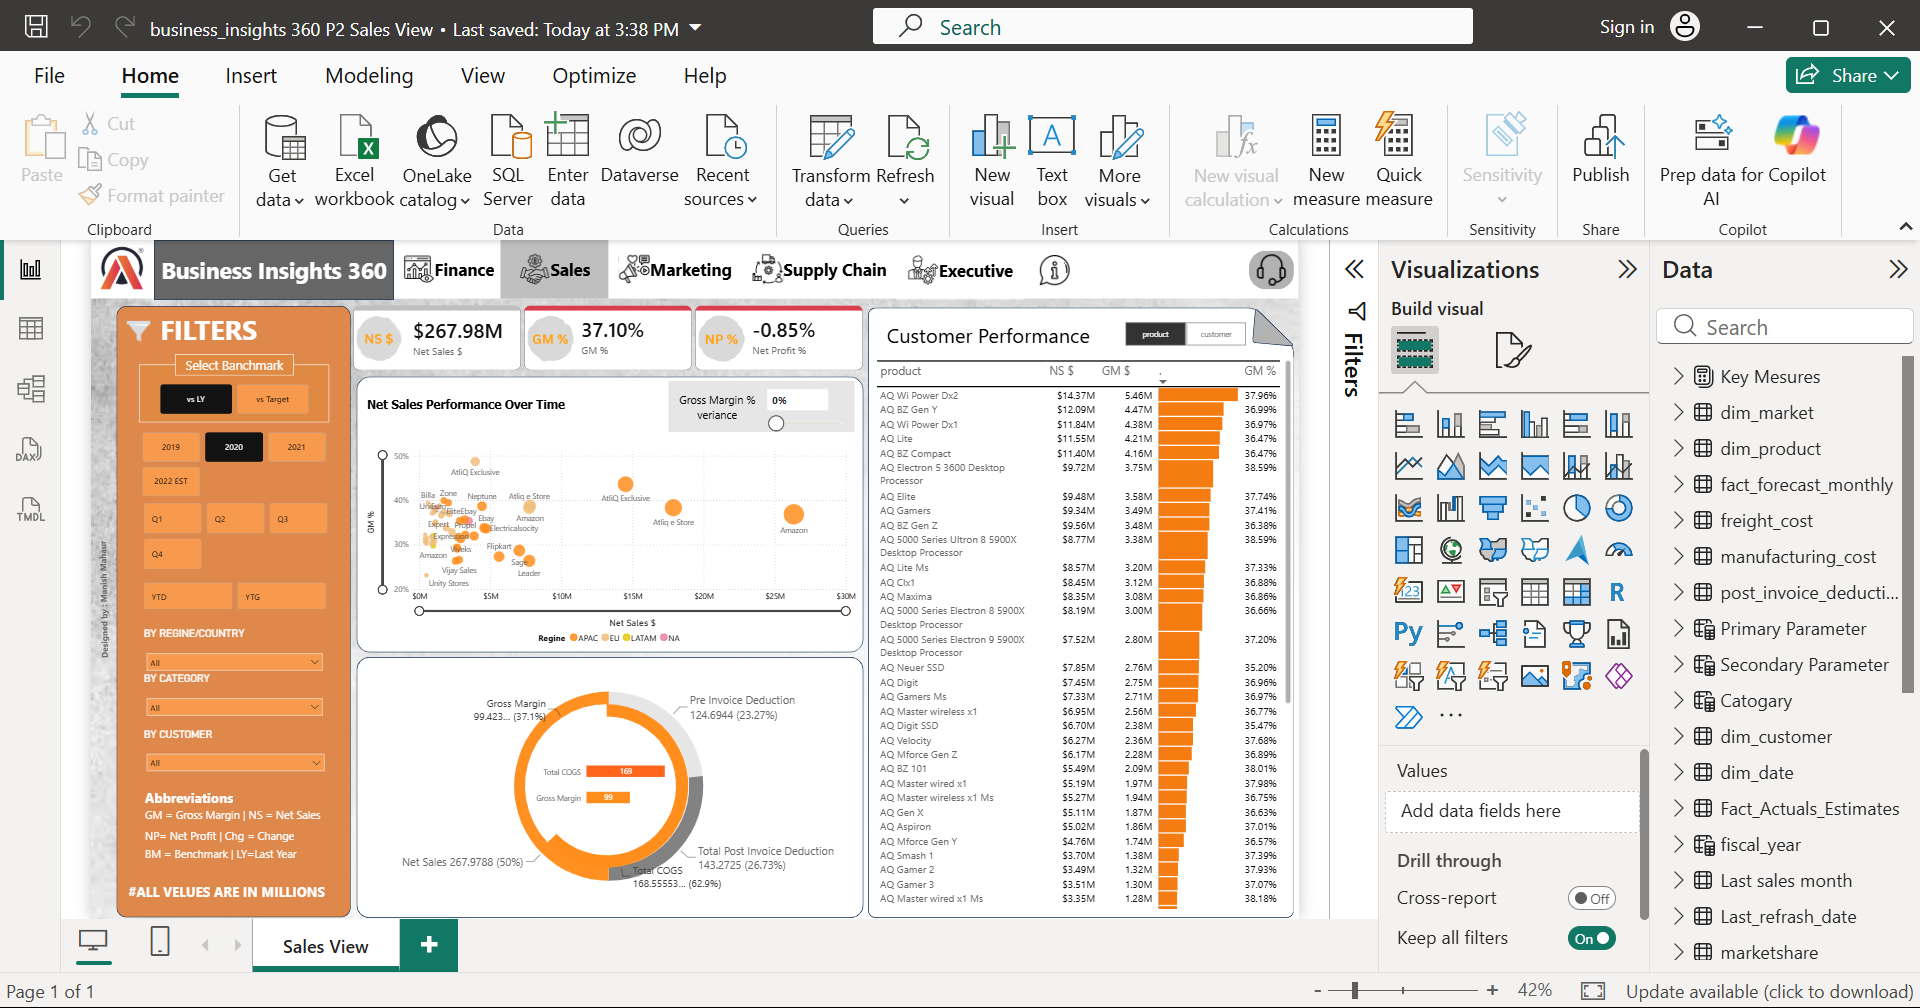

Layout of this report page (visuals, bound fields, positions):
{"tool":"powerbi","page":{"name":"Sales View ","canvas":[1920,1080],"ordinal":0},"visuals":[{"type":"shape","box":[0,0,1920.7,93.1],"z":0},{"type":"shape","box":[0.3,0,264,24],"z":1000},{"type":"shape","box":[10,10,237.5,33.8],"z":2000},{"type":"image","box":[0,9.5,100.2,69.2],"z":3000},{"type":"shape","box":[40,105,372.5,972.5],"z":4000},{"type":"actionButton","box":[0,426.3,39.8,289.5],"z":5000},{"type":"actionButton","box":[486.7,0,164.6,93.1],"z":6000},{"type":"actionButton","box":[651.4,0,171.8,93.1],"z":7000},{"type":"actionButton","box":[823.1,0,212.3,93.1],"z":8000},{"type":"actionButton","box":[1035.5,0,245.7,93.1],"z":9000},{"type":"actionButton","box":[1281.2,0,202.8,95.4],"z":10000},{"type":"actionButton","box":[1841.9,16.7,71.6,62],"z":11000},{"type":"image","box":[1507.9,23.9,50.1,47.7],"z":12000},{"type":"shape","box":[100.2,0,381.7,95.4],"z":13000},{"type":"cardVisual","fields":{"Data":["Key Mesures.Net Sales $","Key Mesures.GM %","Key Mesures.Net Profit %"]},"box":[400.8,88.3,844.6,136],"z":14000},{"type":"advancedSlicerVisual","fields":{"Values":["fiscal_year.FY Desc"]},"box":[76.3,300.6,303,112.1],"z":15000},{"type":"advancedSlicerVisual","fields":{"Values":["dim_date.Quarter"]},"box":[78.2,412.2,302.4,117.1],"z":16000},{"type":"advancedSlicerVisual","fields":{"Values":["dim_date.YTD_YTG"]},"box":[78.2,539,300,53.7],"z":17000},{"type":"slicer","title":"BY REGINE/COUNTRY","fields":{"Values":[" dim_market.region"," dim_market.market"]},"box":[78.3,615,300,82.5],"z":18000},{"type":"slicer","title":"BY CATEGORY","fields":{"Values":[" dim_product.segment"," dim_product.category"," dim_product.product"]},"box":[78.3,687.5,300,87.5],"z":19000},{"type":"slicer","title":"BY CUSTOMER","fields":{"Values":["dim_customer.customer"]},"box":[78.3,775,302.5,80],"z":20000},{"type":"image","box":[44.2,118.4,60.5,50],"z":21000},{"type":"textbox","box":[104.7,107.9,192.1,78.9],"z":22000},{"type":"shape","box":[75.8,197.4,302.6,92.1],"z":23000},{"type":"shape","box":[133.7,181.4,189,34.2],"z":24000},{"type":"advancedSlicerVisual","fields":{"Values":["Set BM.Benchmark"]},"box":[104.7,223.7,247.4,57.9],"z":25000},{"type":"shape","box":[85.8,897.5,292.5,32.5],"z":26000},{"type":"shape","box":[85.8,865,285,40],"z":27000},{"type":"shape","box":[85.8,930,285,32.5],"z":28000},{"type":"shape","box":[85.8,962.5,285,30],"z":29000},{"type":"shape","box":[60.8,1017.5,340,40],"z":30000},{"type":"shape","box":[1235.9,107.4,677.6,971.1],"z":31000},{"type":"shape","box":[1841.9,107.4,78.7,62],"z":32000},{"type":"shape","box":[1241.5,114.6,373.2,70.7],"z":33000},{"type":"shape","box":[422.3,217.1,806.4,439],"z":34000},{"type":"shape","box":[422.3,663.3,806.4,415.1],"z":35000},{"type":"scatterChart","fields":{"Category":[" dim_market.market","dim_customer.customer"],"Series":[" dim_market.region"],"Size":["Key Mesures.Net Sales $"],"X":["Key Mesures.Net Sales $"],"Y":["Key Mesures.Gross Margin %"]},"box":[431.9,322.1,789.7,329.3],"z":36000},{"type":"pivotTable","fields":{"Rows":[" dim_product.product"],"Values":["Key Mesures.Net Sales $","Key Mesures.GM $","Key Mesures.Bar GM $","Key Mesures.GM %"]},"box":[1245.4,186.1,668.1,882.8],"z":37000},{"type":"slicer","fields":{"Values":["Sales Parameter.Sales Parameter"]},"box":[1620,124.1,241,50.1],"z":38000},{"type":"shape","box":[918.6,224.3,295.9,81.1],"z":39000},{"type":"slicer","title":"Gross Margin % Variance","fields":{"Values":["Target Gap Tolarence.Target Gap Tolarence"]},"box":[1061.7,226.7,155.1,78.7],"z":40000},{"type":"shape","box":[921,229,150.3,74],"z":41000},{"type":"shape","box":[439,224.3,439,74],"z":42000},{"type":"donutChart","fields":{"Category":["P & L Rows.Description"],"Y":["Key Mesures.P & L Velue"]},"box":[431.9,668.1,782.6,400.8],"z":43000},{"type":"donutChart","fields":{"Category":["P & L Rows.Description"],"Y":["Key Mesures.P & L Velue"]},"box":[592.7,675.6,456.1,385.4],"z":44000},{"type":"clusteredBarChart","fields":{"Category":["P & L Rows.Description"],"Y":["Key Mesures.P & L Velue"]},"box":[697.3,785.2,221.1,155.9],"z":45000}]}

Visuals, with their boxes on the page's 1920x1080 design canvas (x1, y1, x2, y2). These are canvas units, not pixel positions in the 1920x1008 screenshot, which may show the page scaled, cropped or inside an application window:
shape: [left=0, top=0, right=1921, bottom=93]
shape: [left=0, top=0, right=264, bottom=24]
shape: [left=10, top=10, right=248, bottom=44]
image: [left=0, top=10, right=100, bottom=79]
shape: [left=40, top=105, right=412, bottom=1078]
actionButton: [left=0, top=426, right=40, bottom=716]
actionButton: [left=487, top=0, right=651, bottom=93]
actionButton: [left=651, top=0, right=823, bottom=93]
actionButton: [left=823, top=0, right=1035, bottom=93]
actionButton: [left=1036, top=0, right=1281, bottom=93]
actionButton: [left=1281, top=0, right=1484, bottom=95]
actionButton: [left=1842, top=17, right=1914, bottom=79]
image: [left=1508, top=24, right=1558, bottom=72]
shape: [left=100, top=0, right=482, bottom=95]
cardVisual - Key Mesures.Net Sales $ x Key Mesures.GM %: [left=401, top=88, right=1245, bottom=224]
advancedSlicerVisual - fiscal_year.FY Desc: [left=76, top=301, right=379, bottom=413]
advancedSlicerVisual - dim_date.Quarter: [left=78, top=412, right=381, bottom=529]
advancedSlicerVisual - dim_date.YTD_YTG: [left=78, top=539, right=378, bottom=593]
"BY REGINE/COUNTRY" slicer: [left=78, top=615, right=378, bottom=698]
"BY CATEGORY" slicer: [left=78, top=688, right=378, bottom=775]
"BY CUSTOMER" slicer: [left=78, top=775, right=381, bottom=855]
image: [left=44, top=118, right=105, bottom=168]
textbox: [left=105, top=108, right=297, bottom=187]
shape: [left=76, top=197, right=378, bottom=290]
shape: [left=134, top=181, right=323, bottom=216]
advancedSlicerVisual - Set BM.Benchmark: [left=105, top=224, right=352, bottom=282]
shape: [left=86, top=898, right=378, bottom=930]
shape: [left=86, top=865, right=371, bottom=905]
shape: [left=86, top=930, right=371, bottom=962]
shape: [left=86, top=962, right=371, bottom=992]
shape: [left=61, top=1018, right=401, bottom=1058]
shape: [left=1236, top=107, right=1914, bottom=1078]
shape: [left=1842, top=107, right=1921, bottom=169]
shape: [left=1242, top=115, right=1615, bottom=185]
shape: [left=422, top=217, right=1229, bottom=656]
shape: [left=422, top=663, right=1229, bottom=1078]
scatterChart -  dim_market.market x dim_customer.customer: [left=432, top=322, right=1222, bottom=651]
pivotTable -  dim_product.product x Key Mesures.Net Sales $: [left=1245, top=186, right=1914, bottom=1069]
slicer - Sales Parameter.Sales Parameter: [left=1620, top=124, right=1861, bottom=174]
shape: [left=919, top=224, right=1214, bottom=305]
"Gross Margin % Variance" slicer: [left=1062, top=227, right=1217, bottom=305]
shape: [left=921, top=229, right=1071, bottom=303]
shape: [left=439, top=224, right=878, bottom=298]
donutChart - P & L Rows.Description x Key Mesures.P & L Velue: [left=432, top=668, right=1214, bottom=1069]
donutChart - P & L Rows.Description x Key Mesures.P & L Velue: [left=593, top=676, right=1049, bottom=1061]
clusteredBarChart - P & L Rows.Description x Key Mesures.P & L Velue: [left=697, top=785, right=918, bottom=941]
